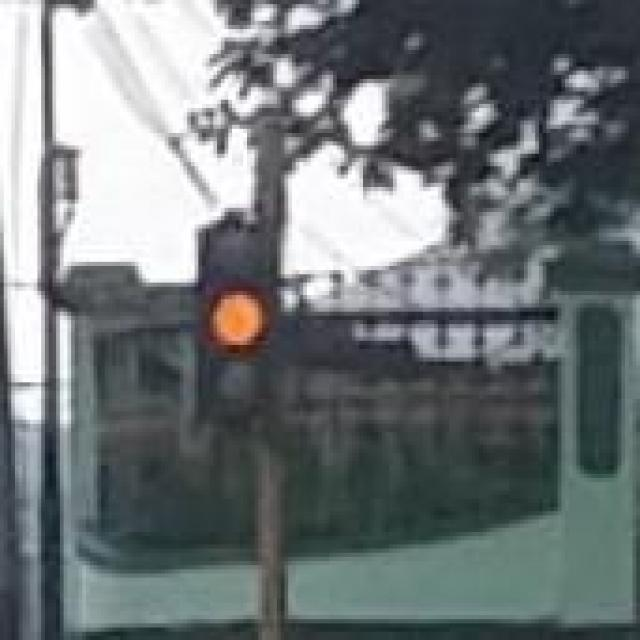yellow_light: (195, 216, 278, 424)
